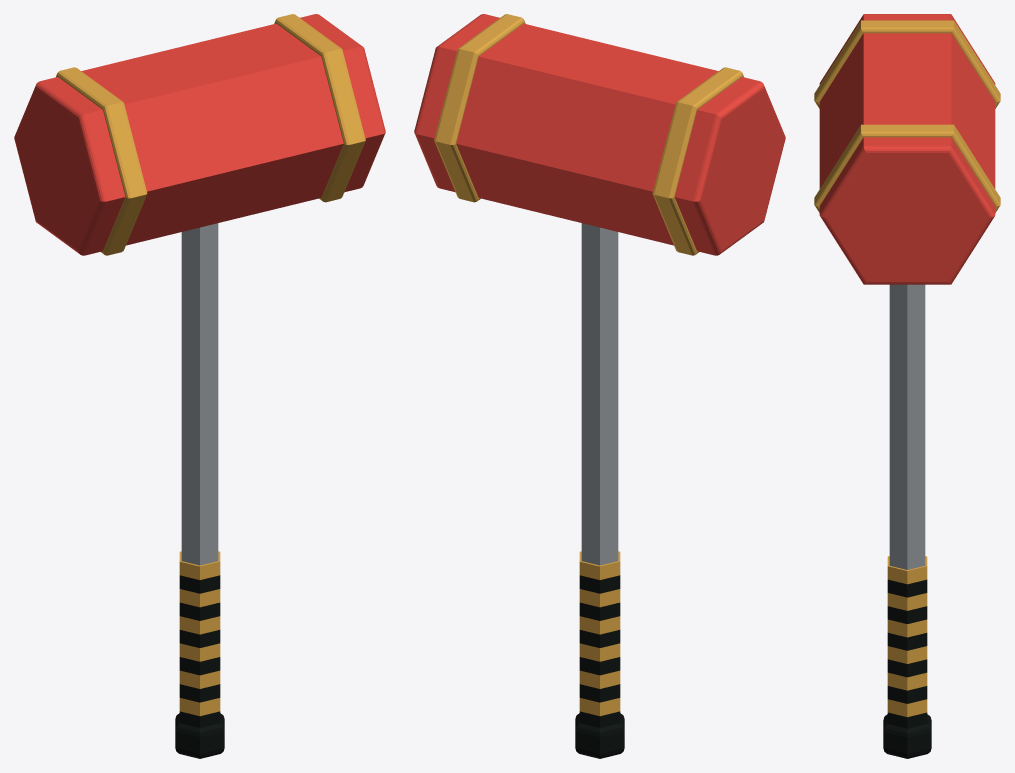
The model's file is hammer_midaru.fbx.
3 renders of one model, left to right at view 1: azimuth 30°, elevation 25°; view 2: azimuth 150°, elevation 25°; view 3: azimuth 270°, elevation 25°, orthographic. The views are drawn at different scales.
Parts seen in each view (by area): view 1: midaru_hammer; view 2: midaru_hammer; view 3: midaru_hammer.
Part boxes in pixels (left/top/right/bottom): midaru_hammer: left=14, top=14, right=385, bottom=758; midaru_hammer: left=414, top=14, right=785, bottom=758; midaru_hammer: left=814, top=14, right=1000, bottom=758.
Bounding box in the file's own units: 1.1 × 2.54 × 0.636.
